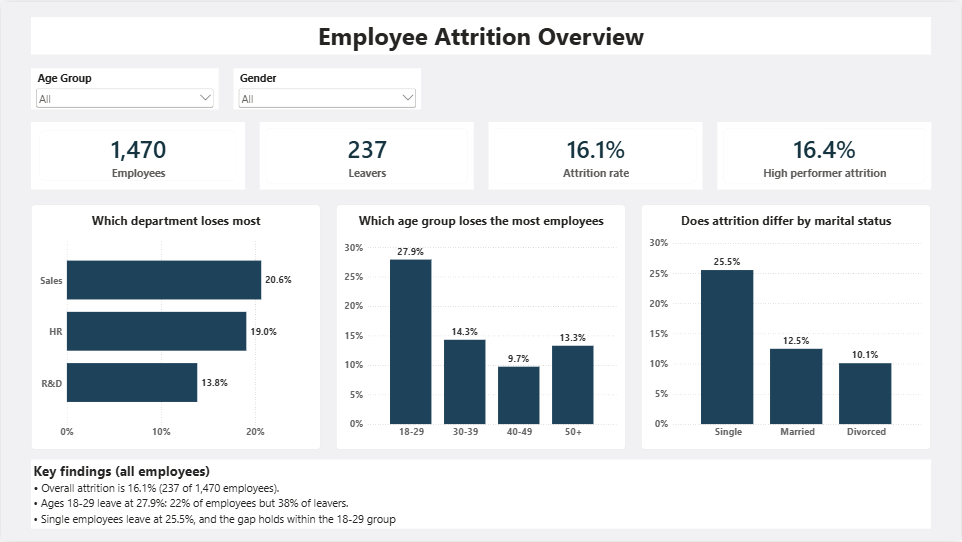

The page's visual inventory and layout, read from the dashboard file:
{"tool":"powerbi","page":{"name":"Attrition Overview","canvas":[1920,1080],"ordinal":0},"visuals":[{"type":"slicer","fields":{"Values":["HR-Employee-Attrition.Age Group"]},"box":[60,132,375,82],"z":0},{"type":"cardVisual","fields":{"Data":["HR-Employee-Attrition.Attrition rate"]},"box":[975.3,239,428,135],"z":0,"group":"g2"},{"type":"textbox","box":[60,30,1800,75],"z":1000},{"type":"clusteredBarChart","title":"Which department loses most","fields":{"Category":["HR-Employee-Attrition.Department"],"Y":["HR-Employee-Attrition.Attrition rate"]},"box":[60,404,579,490],"z":1000,"group":"g1"},{"type":"slicer","fields":{"Values":["HR-Employee-Attrition.Gender"]},"box":[465,132,375,82],"z":2000},{"type":"group","id":"g1","title":"Group 2","box":[60,404,1800,490],"z":3000},{"type":"cardVisual","fields":{"Data":["HR-Employee-Attrition.High Performer Attrition Rate"]},"box":[1433,239,428,135],"z":4000,"group":"g2"},{"type":"textbox","box":[60,914,1800,138],"z":4000},{"type":"group","id":"g2","title":"Group 1","box":[60,239,1800,135],"z":5000},{"type":"cardVisual","fields":{"Data":["HR-Employee-Attrition.Number of Attrition"]},"box":[517.7,239,428,135],"z":5000,"group":"g2"},{"type":"clusteredColumnChart","title":"Which age group loses the most employees","fields":{"Category":["HR-Employee-Attrition.Age Group"],"Y":["HR-Employee-Attrition.Attrition rate"]},"box":[671,404,579,490],"z":5000,"group":"g1"},{"type":"cardVisual","fields":{"Data":["HR-Employee-Attrition.Employees Display"]},"box":[60,239,428,135],"z":8000,"group":"g2"},{"type":"clusteredColumnChart","title":"Does attrition differ by marital status","fields":{"Category":["HR-Employee-Attrition.MaritalStatus"],"Y":["HR-Employee-Attrition.Attrition rate"]},"box":[1281,404,579,490],"z":10001,"group":"g1"}]}

Visuals, with their boxes in screenshot pixels (x1, y1, x2, y2), scaled from the page's 1920x1080 canvas onto the 962x542 screenshot:
slicer - HR-Employee-Attrition.Age Group: select_region(30, 66, 218, 107)
cardVisual - HR-Employee-Attrition.Attrition rate: select_region(489, 120, 703, 188)
textbox: select_region(30, 15, 932, 53)
"Which department loses most" clusteredBarChart: select_region(30, 203, 320, 449)
slicer - HR-Employee-Attrition.Gender: select_region(233, 66, 421, 107)
"Group 2" group: select_region(30, 203, 932, 449)
cardVisual - HR-Employee-Attrition.High Performer Attrition Rate: select_region(718, 120, 932, 188)
textbox: select_region(30, 459, 932, 528)
"Group 1" group: select_region(30, 120, 932, 188)
cardVisual - HR-Employee-Attrition.Number of Attrition: select_region(259, 120, 474, 188)
"Which age group loses the most employees" clusteredColumnChart: select_region(336, 203, 626, 449)
cardVisual - HR-Employee-Attrition.Employees Display: select_region(30, 120, 245, 188)
"Does attrition differ by marital status" clusteredColumnChart: select_region(642, 203, 932, 449)
